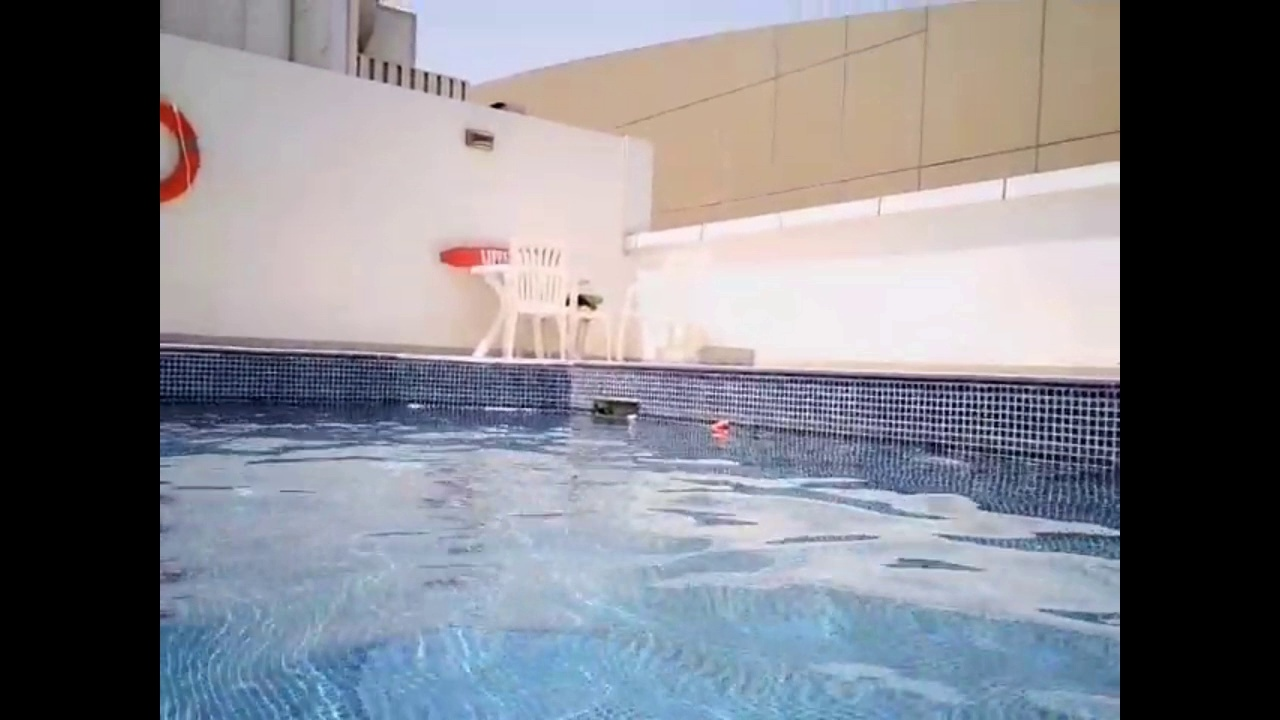debris: (703, 417, 733, 439), (623, 411, 642, 425)
